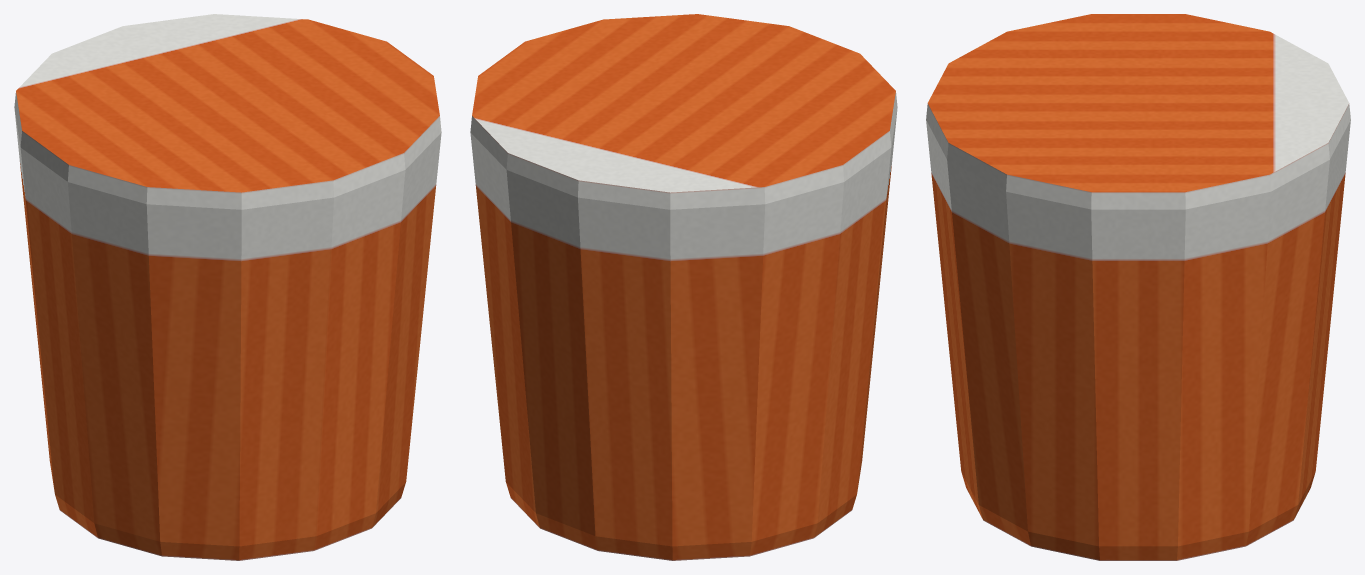
File: Cup.glb
The picture shows the model from 3 angles, left to right: view 1: azimuth 30°, elevation 25°; view 2: azimuth 150°, elevation 25°; view 3: azimuth 270°, elevation 25°; orthographic projection.
Parts seen in each view (by area): view 1: Cup; view 2: Cup; view 3: Cup.
Boxes of the visible parts, x1,y1,x2,y2 form: Cup: (14, 14, 441, 560); Cup: (470, 14, 897, 560); Cup: (926, 14, 1350, 560).
Bounding box in the file's own units: 1 × 1 × 1.
Materials: 1 (1 with a texture image).
